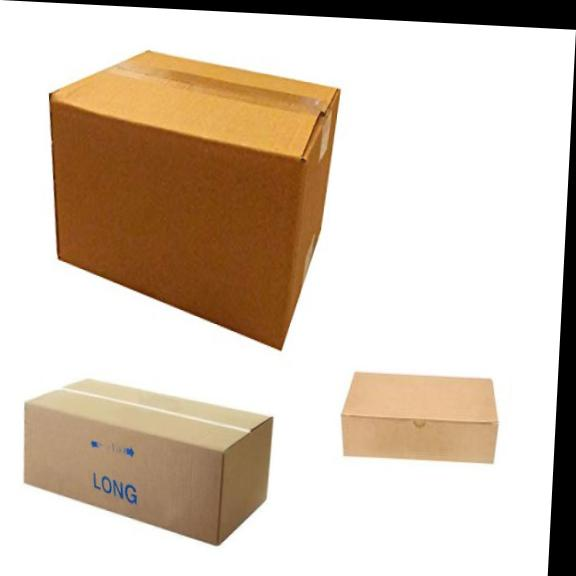Kertas: (50, 51, 339, 348), (17, 375, 276, 549), (24, 380, 272, 543), (338, 370, 500, 464), (342, 372, 497, 462)
